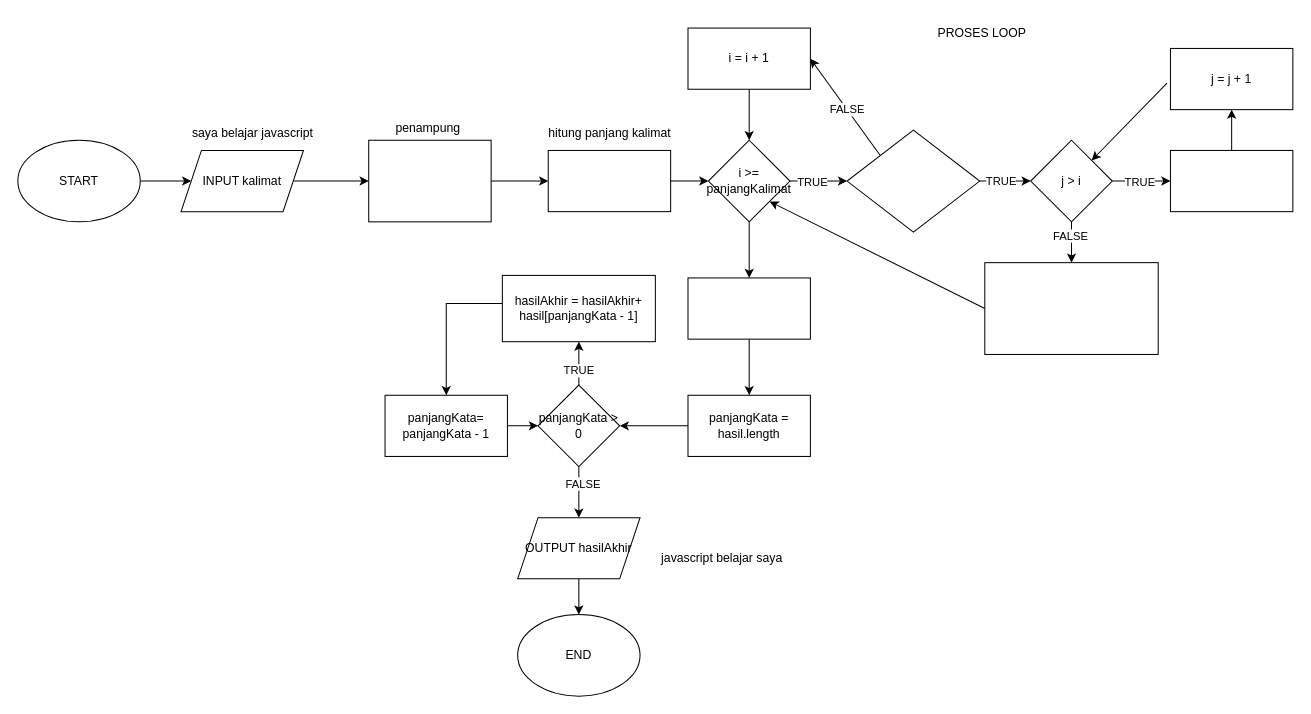
The diagram is 1311 pixels wide and 714 high, and some of its shapes have lost their labels. The shapes that lost their labels are listed below. From the top down, each one's centre as x and y in pixels, then its label:
[429,180]: hasil= [] , kataSemetara = "" , karakter = "" , i = 0 , j =0
[609,180]: panjangKalimat = kalimat.length
[913,180]: kalimat[i] == ' ' OR i = panjangKalimat
[1231,180]: kataSementara = kataSementara + kalimat[j]
[748,308]: hasilAkhir = ""
[1071,308]: hasil[hasil.length] = kataSementara AND kataSementara = "" AND j = j + 1
